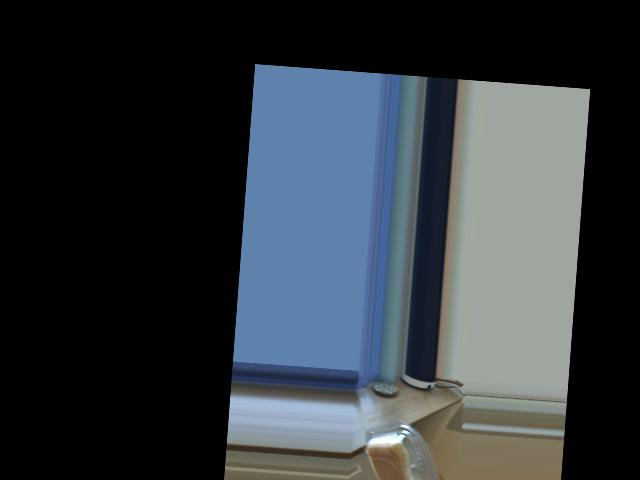cheese: (373, 430, 440, 480)
